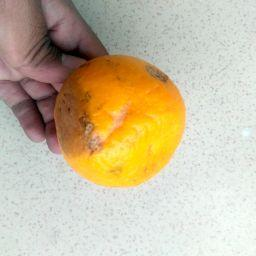Unripe: (54, 55, 185, 191)
